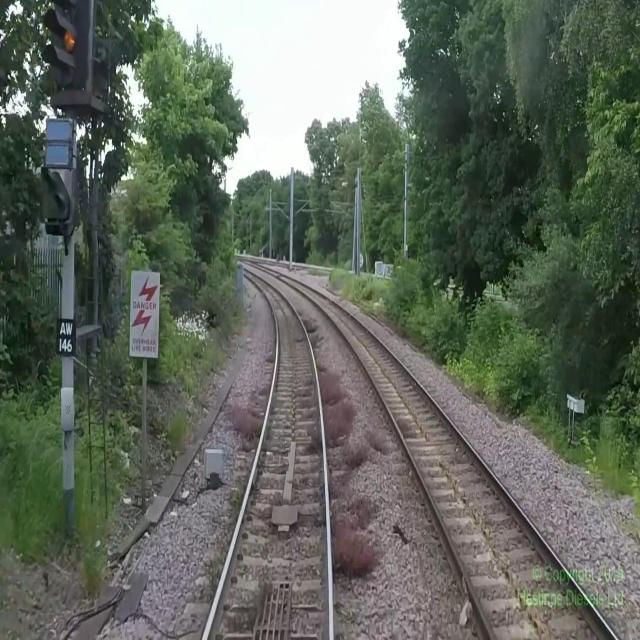rail-track: (276, 273, 616, 639), (206, 269, 328, 639)
